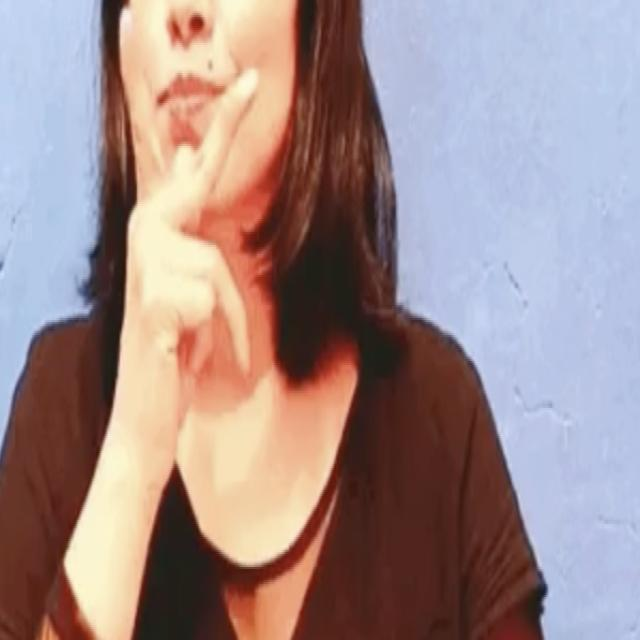PAPA: (110, 55, 261, 479)
